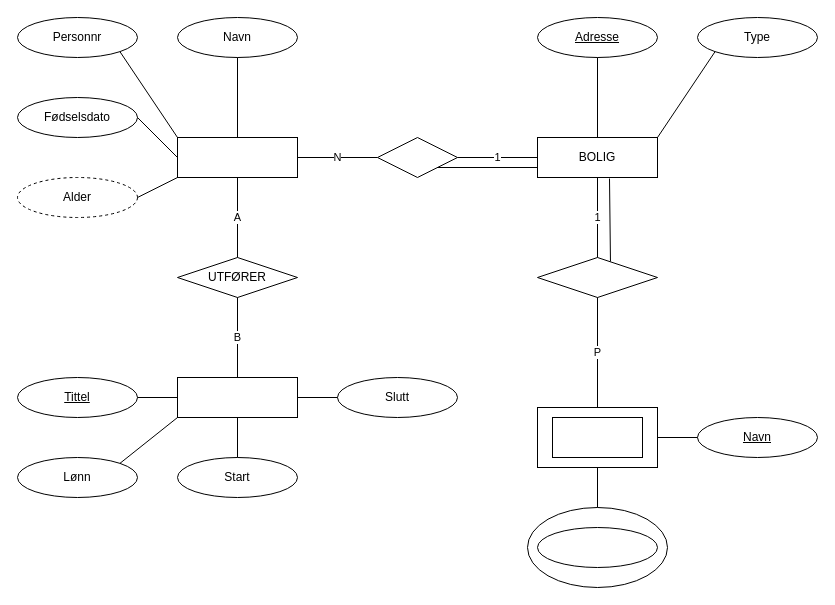
The diagram is 835 pixels wide and 605 high, and some of its shapes have lost their labels. Here are the shapes that lost their labels. From the top down, the centre of each, then its label:
At (x=237, y=157): "MENNESKE".
At (x=417, y=157): "BOR".
At (x=597, y=277): "INNEHOLDER".
At (x=237, y=397): "YRKE".
At (x=597, y=437): "ROM".
At (x=597, y=547): "Bruksområde".
